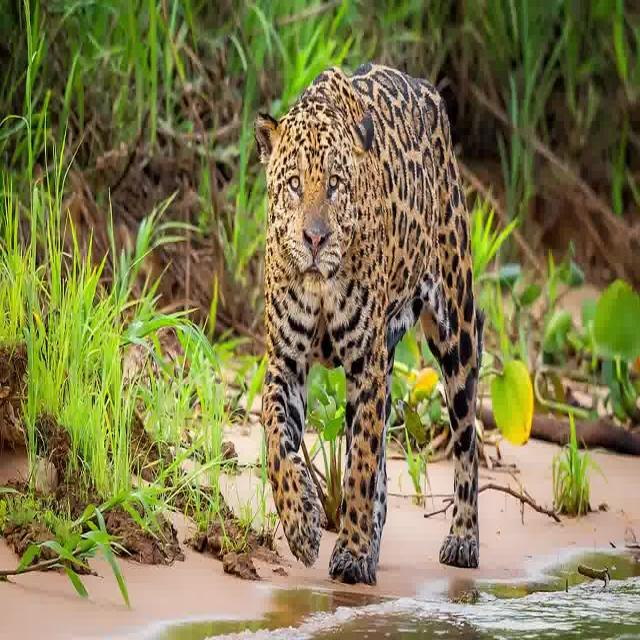Jaguar: (217, 61, 511, 634)
